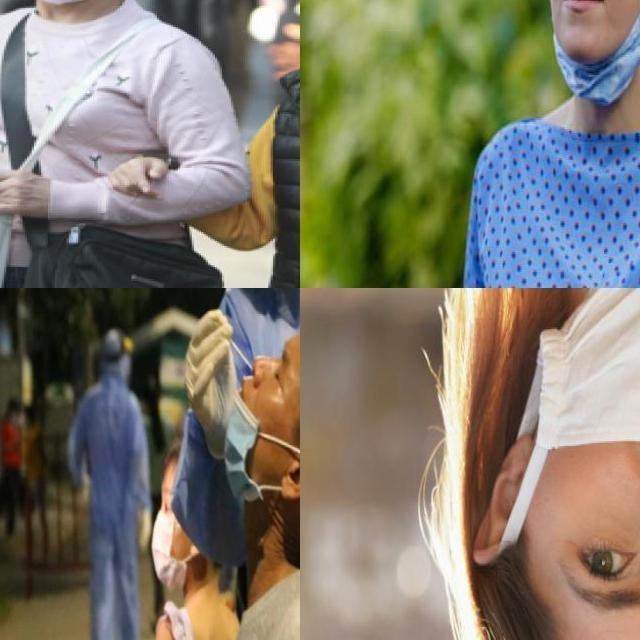hairnet: (218, 356, 282, 510)
